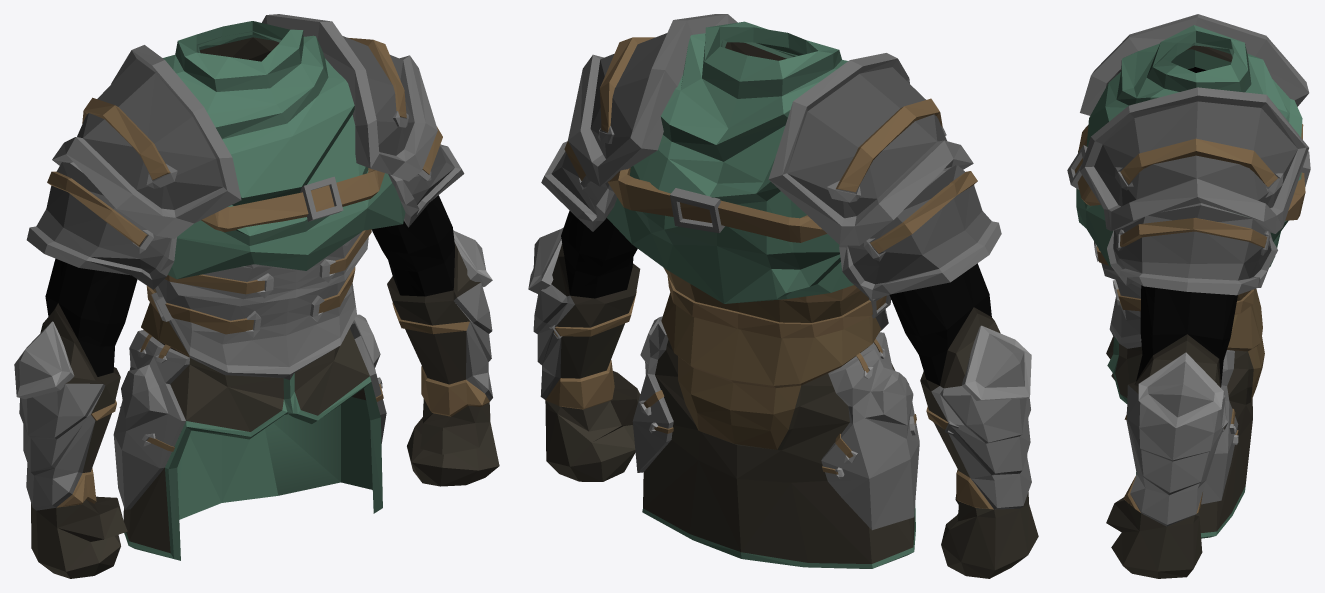
File: LegendaryNobleWarriorChestplate.dae
3 views of the same model, side by side, from view 1: azimuth 30°, elevation 25°; view 2: azimuth 150°, elevation 25°; view 3: azimuth 270°, elevation 25° (orthographic). The views are drawn at different scales.
Visible parts, largest first — view 1: Chestplate; view 2: Chestplate; view 3: Chestplate.
Part boxes in pixels (x1,y1,x2,y2): Chestplate: (14,14,499,578); Chestplate: (528,14,1038,578); Chestplate: (1067,14,1310,578).
Size of the model in its own units: 5.26 by 2.52 by 5.06.
